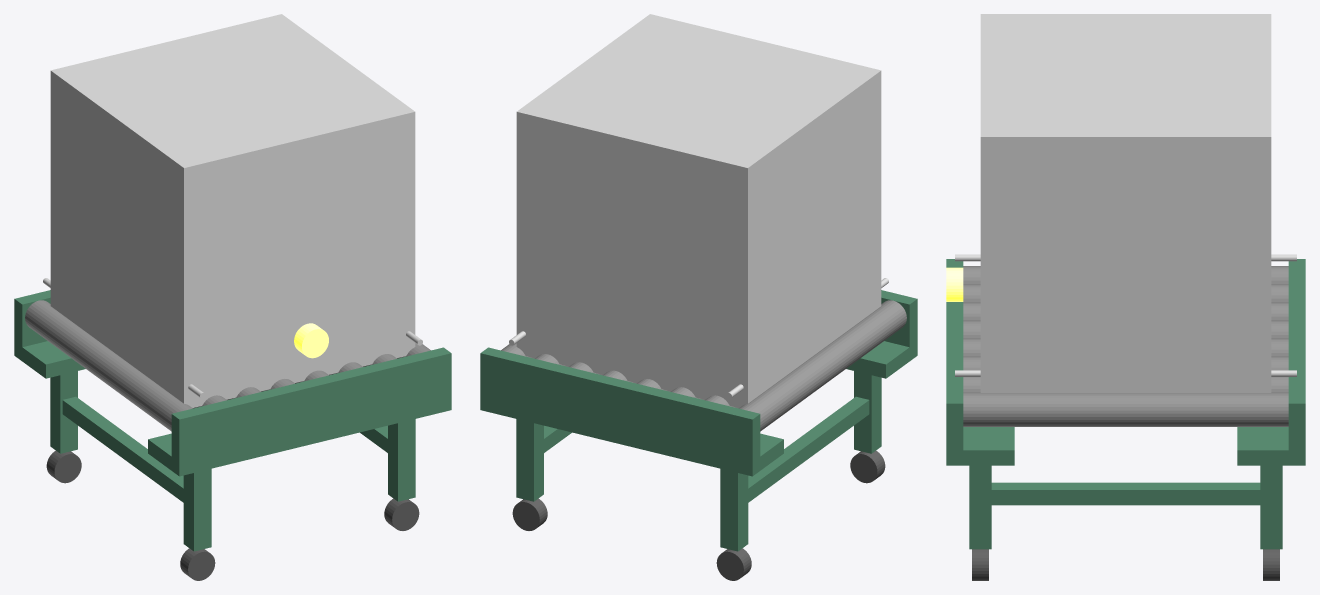
Rendered from plateform_conveyor_ver5.gltf.
3 renders of one model, left to right at view 1: azimuth 30°, elevation 25°; view 2: azimuth 150°, elevation 25°; view 3: azimuth 270°, elevation 25°, orthographic. The views are drawn at different scales.
Parts seen in each view (by area): view 1: InvisibleBulkSensor, RightFrame, Roller_0, RightBottonFrame, LeftBottonFrame.002, Leg_-0.75_L, Leg_0.75_L, Leg_-0.75_R, LeftBottonFrame, LeftFrame, Light_bulb_0, Wheel_0.75_-0.85 (+2 smaller); view 2: InvisibleBulkSensor, LeftFrame, Roller_0, LeftBottonFrame, LeftBottonFrame.002, Leg_-0.75_R, Leg_0.75_R, Leg_-0.75_L, RightBottonFrame, RightFrame, Wheel_0.75_0.85, Wheel_-0.75_0.85 (+1 smaller); view 3: InvisibleBulkSensor, Roller_7, LeftBottonFrame.001, LeftFrame, RightFrame, RightBottonFrame, LeftBottonFrame, Leg_0.75_L, Leg_0.75_R, Roller_0, Roller_1, Roller_2 (+7 smaller).
Boxes of the visible parts, x1,y1,x2,y2 form: InvisibleBulkSensor: (50, 14, 415, 407); RightFrame: (171, 347, 451, 462); Roller_0: (25, 300, 192, 431); RightBottonFrame: (148, 396, 451, 476); LeftBottonFrame.002: (62, 396, 183, 502); Leg_-0.75_L: (183, 468, 211, 551); Leg_0.75_L: (388, 419, 415, 501); Leg_-0.75_R: (50, 371, 77, 453); LeftBottonFrame: (14, 341, 85, 378); LeftFrame: (14, 290, 50, 347); Light_bulb_0: (294, 323, 328, 358); Wheel_0.75_-0.85: (384, 498, 419, 530); InvisibleBulkSensor: (516, 14, 881, 407); LeftFrame: (480, 347, 760, 462); Roller_0: (739, 300, 906, 431); LeftBottonFrame: (480, 396, 783, 476); LeftBottonFrame.002: (748, 396, 869, 502); Leg_-0.75_R: (720, 468, 748, 551); Leg_0.75_R: (516, 419, 543, 501); Leg_-0.75_L: (854, 371, 881, 453); RightBottonFrame: (846, 341, 917, 378); RightFrame: (881, 290, 917, 347); Wheel_0.75_0.85: (512, 498, 547, 530); Wheel_-0.75_0.85: (716, 548, 751, 580); InvisibleBulkSensor: (980, 14, 1271, 392); Roller_7: (963, 392, 1288, 426); LeftBottonFrame.001: (991, 482, 1260, 505); LeftFrame: (1288, 259, 1305, 450); RightFrame: (946, 259, 963, 450); RightBottonFrame: (946, 427, 1014, 465); LeftBottonFrame: (1237, 427, 1305, 465); Leg_0.75_L: (969, 465, 991, 549); Leg_0.75_R: (1260, 465, 1282, 549); Roller_0: (963, 266, 1288, 284); Roller_1: (963, 284, 1288, 302); Roller_2: (963, 302, 1288, 320).
Bounding box in the file's own units: 2 × 2.9 × 2.1.
